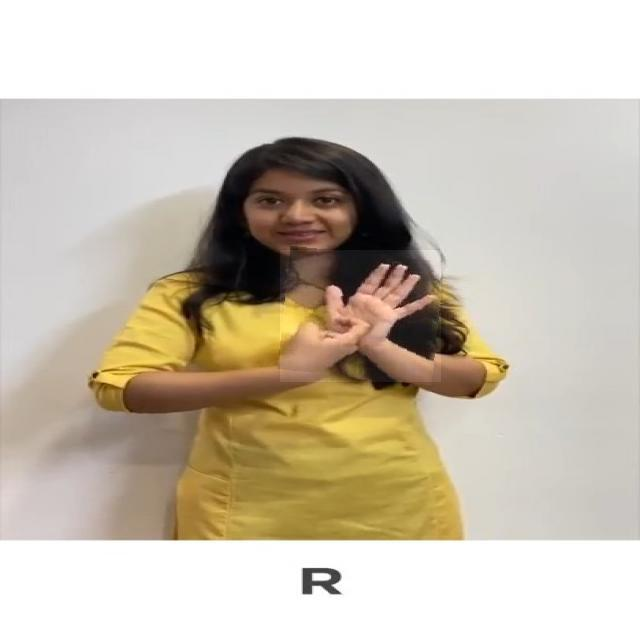R: (280, 250, 441, 382)
